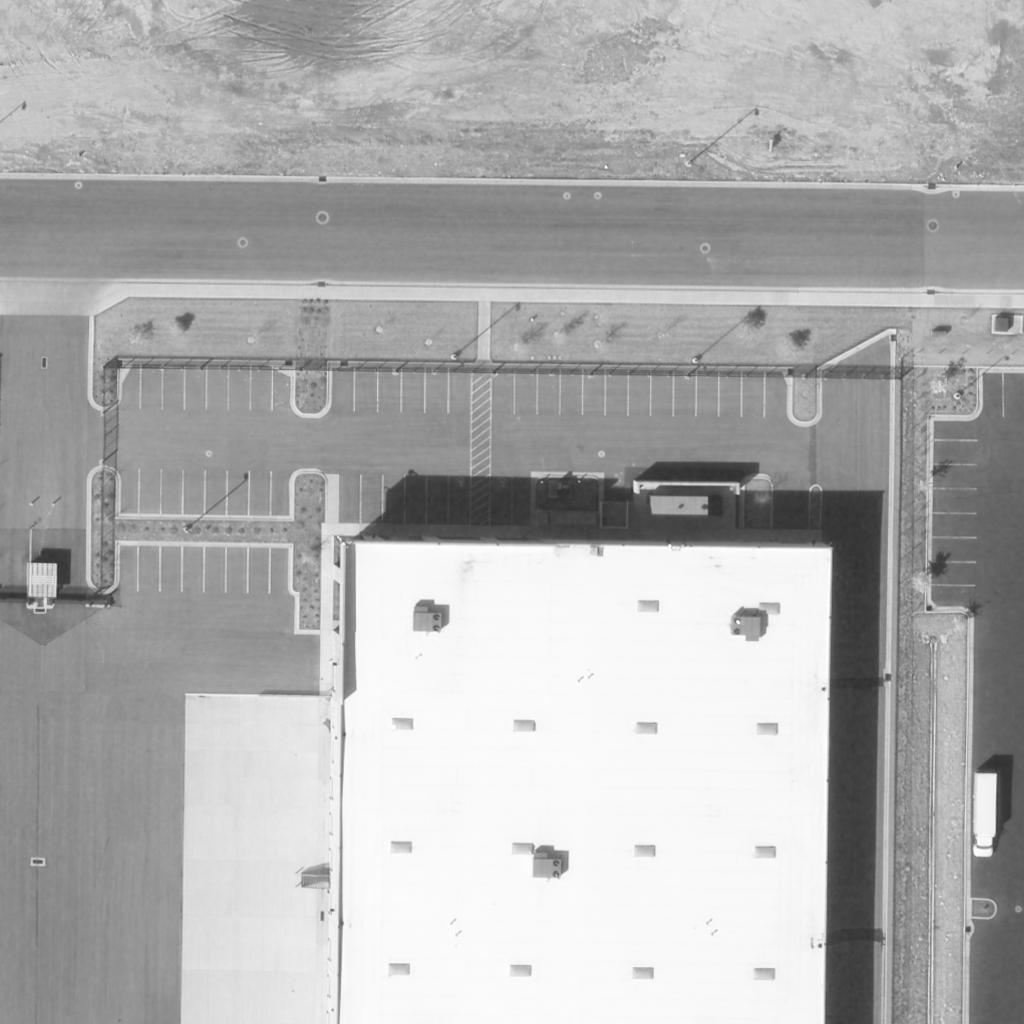vehicle: (972, 770, 1000, 858)
